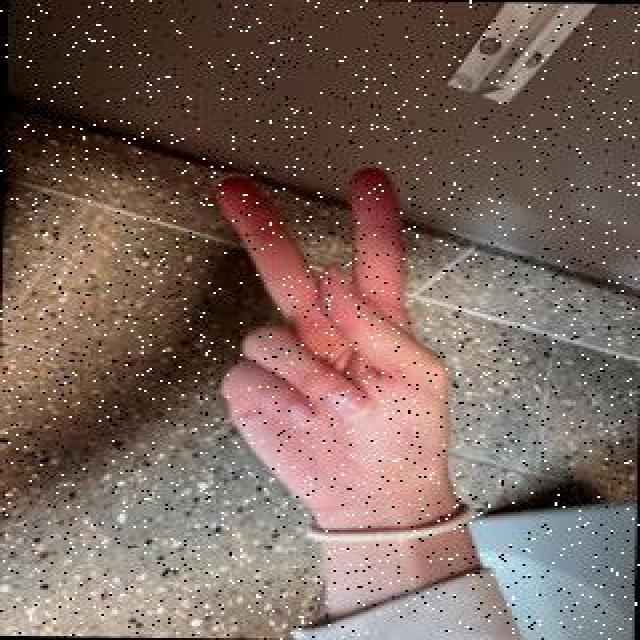K: (199, 155, 465, 521)
